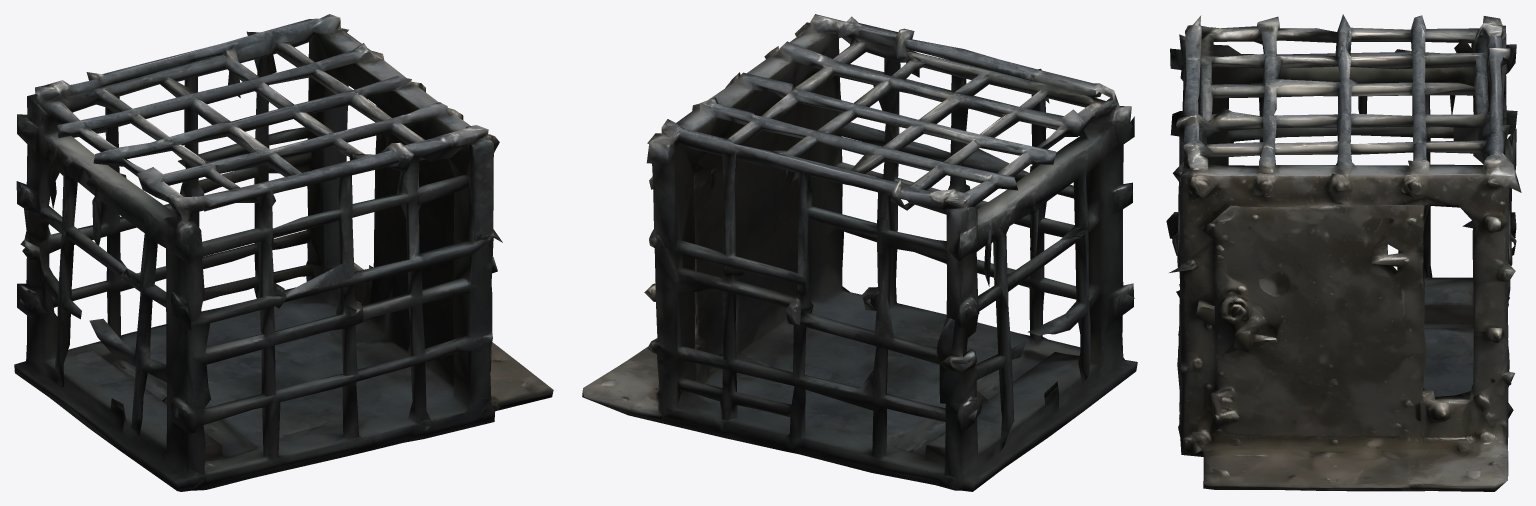
Rendered from xd_cage.glb.
3 renders of one model, left to right at view 1: azimuth 30°, elevation 25°; view 2: azimuth 150°, elevation 25°; view 3: azimuth 270°, elevation 25°, orthographic.
Parts seen in each view (by area): view 1: tripo_node_1a46f714-cbec-4923-9b47-3b53dc954eef; view 2: tripo_node_1a46f714-cbec-4923-9b47-3b53dc954eef; view 3: tripo_node_1a46f714-cbec-4923-9b47-3b53dc954eef.
Part boxes in pixels (<box>): tripo_node_1a46f714-cbec-4923-9b47-3b53dc954eef: <box>14,14,553,491</box>; tripo_node_1a46f714-cbec-4923-9b47-3b53dc954eef: <box>582,14,1137,491</box>; tripo_node_1a46f714-cbec-4923-9b47-3b53dc954eef: <box>1166,14,1521,491</box>.
Size of the model in its own units: 1 by 0.7202 by 0.7762.
1 material, 1 textured.
